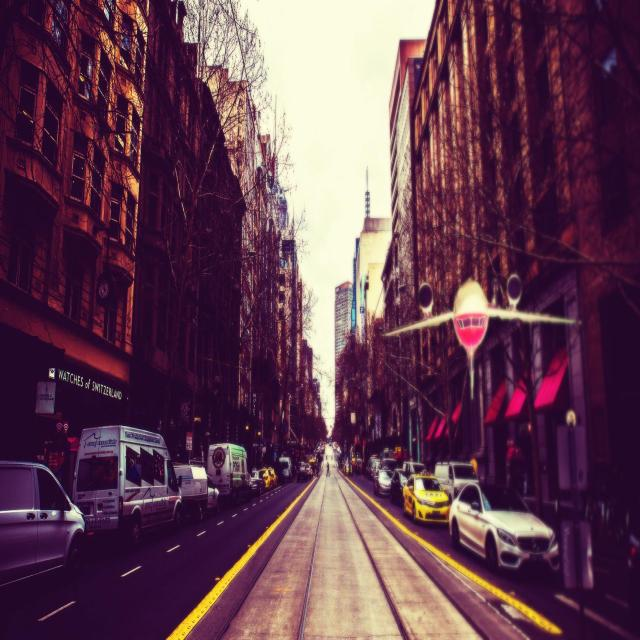airplane: (385, 274, 579, 398)
